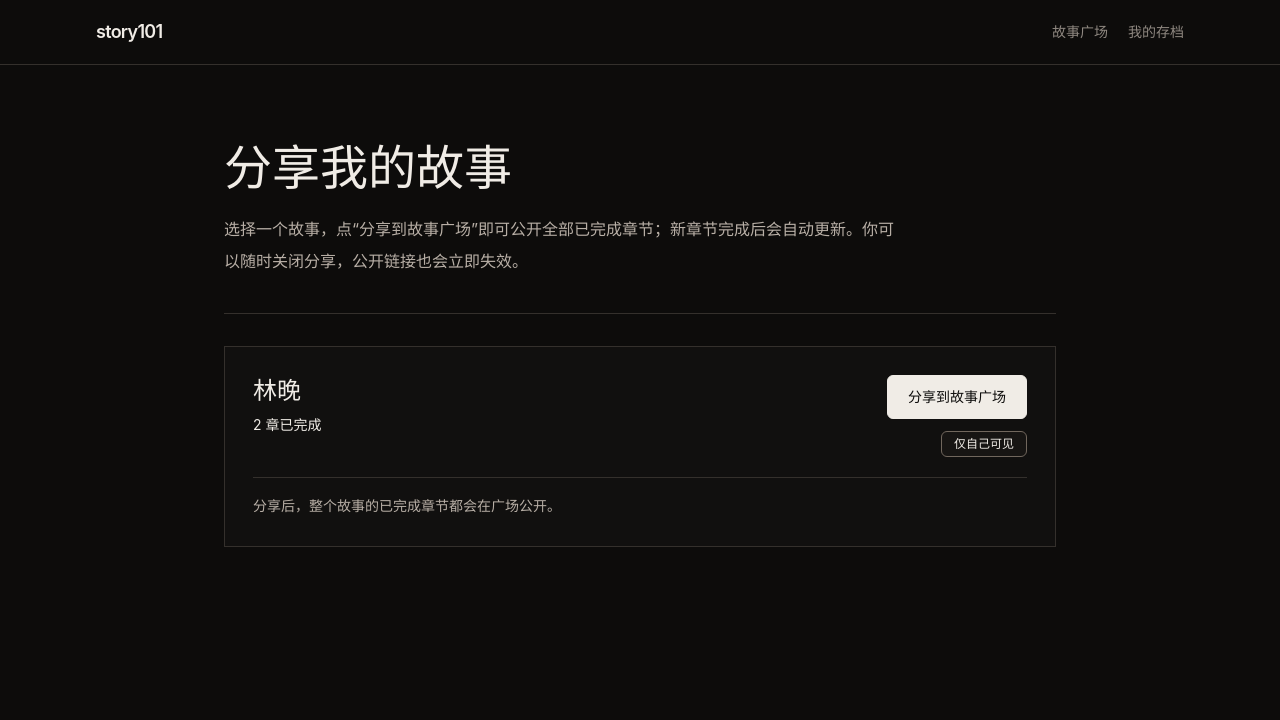
names the share action and confirms the whole story is public beside the story
This screenshot has width=1280, height=720.
Expected: the text "仅自己可见" is shown, [941,431,1027,457]
Click the button "分享到故事广场" at coordinates (957, 397), box [887,375,1027,419]
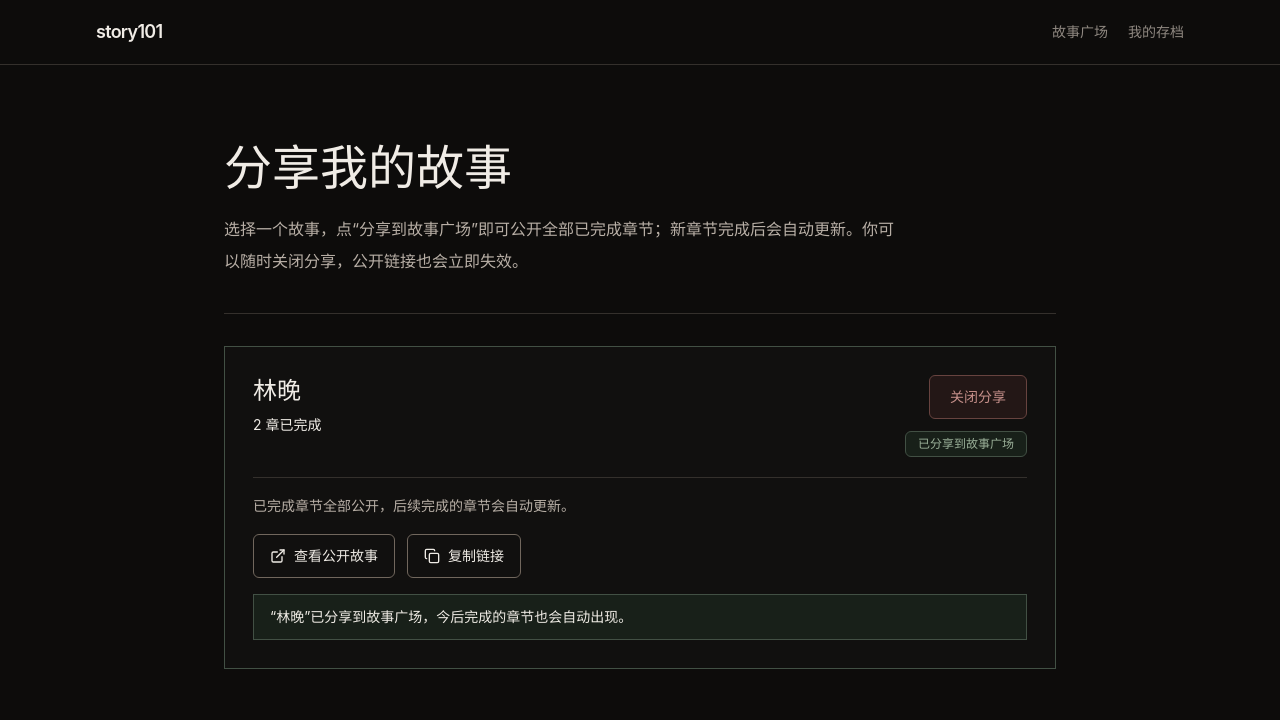
Now the text "已分享到故事广场" is shown, box [905,431,1027,457]
Now the link "查看公开故事" is shown, box [253,534,395,578]
Now the button "关闭分享" is shown, box [929,375,1027,419]
